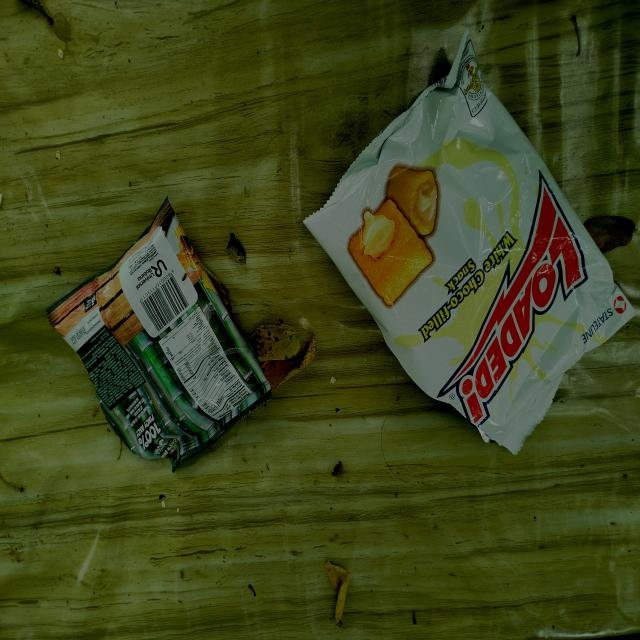residual: (303, 24, 640, 465), (41, 186, 280, 478)
